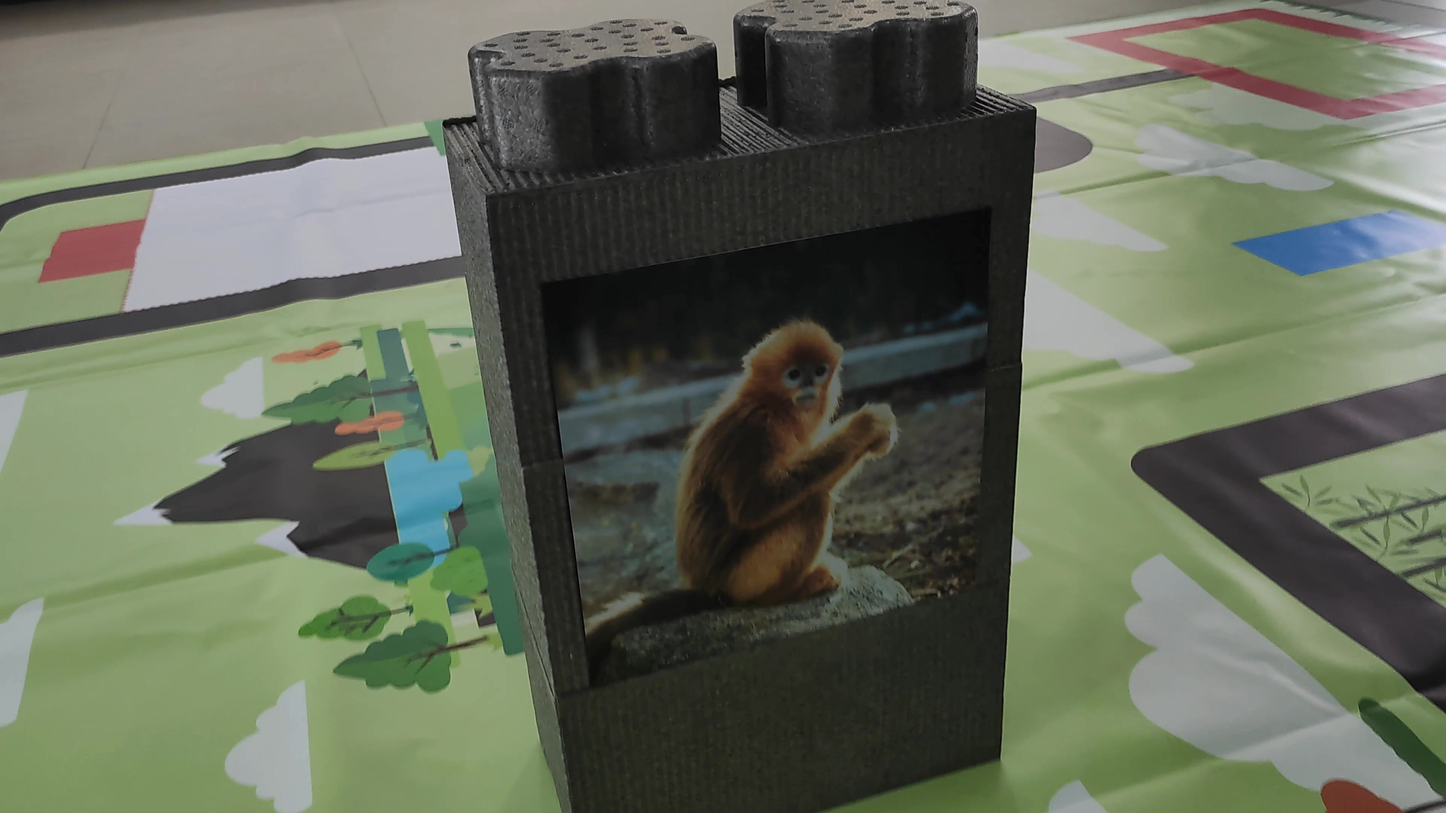monkey: (628, 285, 935, 594)
